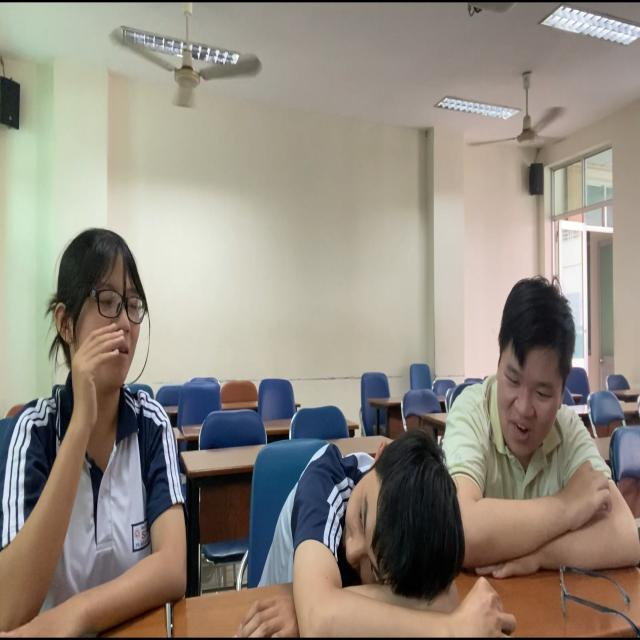raise_hand: (1, 222, 213, 640)
sleep: (249, 428, 488, 640)
